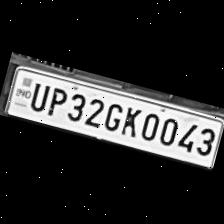0: (135, 106, 163, 142), (154, 111, 182, 147)
2: (80, 92, 108, 130)
3: (62, 86, 90, 123), (190, 121, 218, 158)
4: (174, 116, 200, 152)
G: (100, 98, 126, 135)
K: (117, 101, 144, 139)
P: (41, 82, 68, 120)
U: (24, 77, 52, 113)
